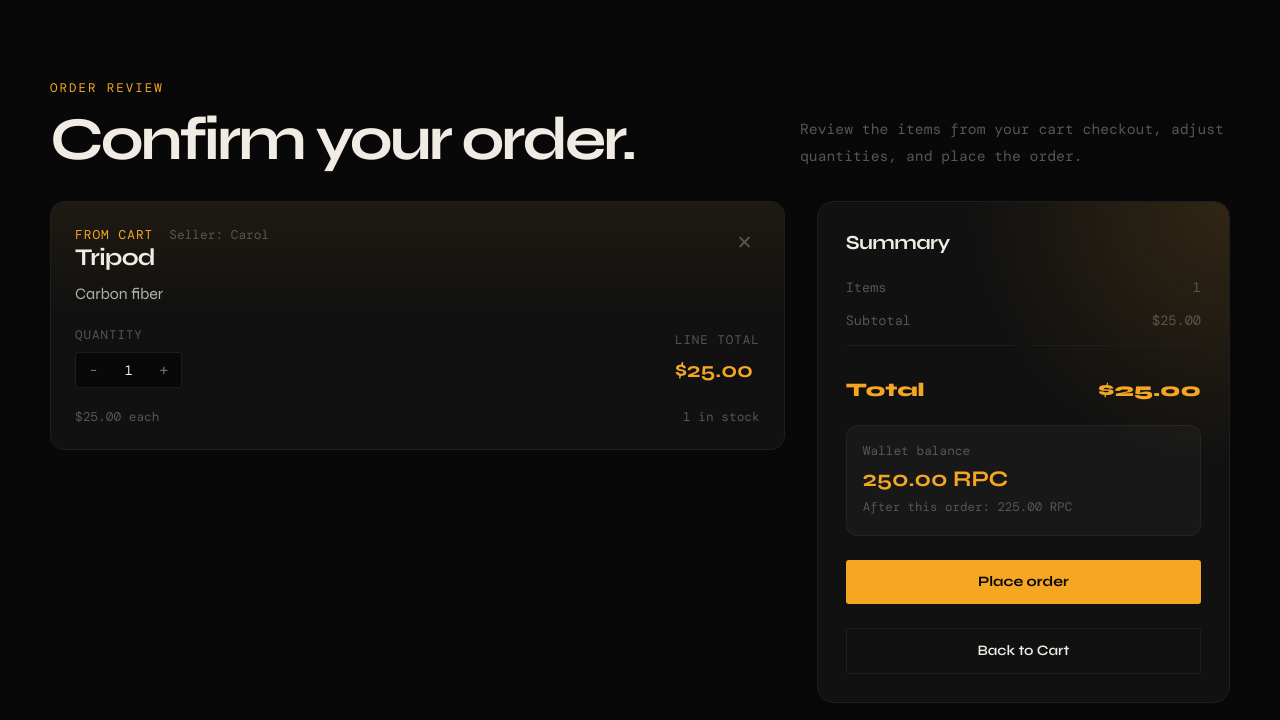
Scenario: OrderPage › removes a cart item from checkout and from the cart backend
This screenshot has width=1280, height=720.
Click the button named "Remove Tripod from order" at (745, 243), box [729, 226, 760, 260]
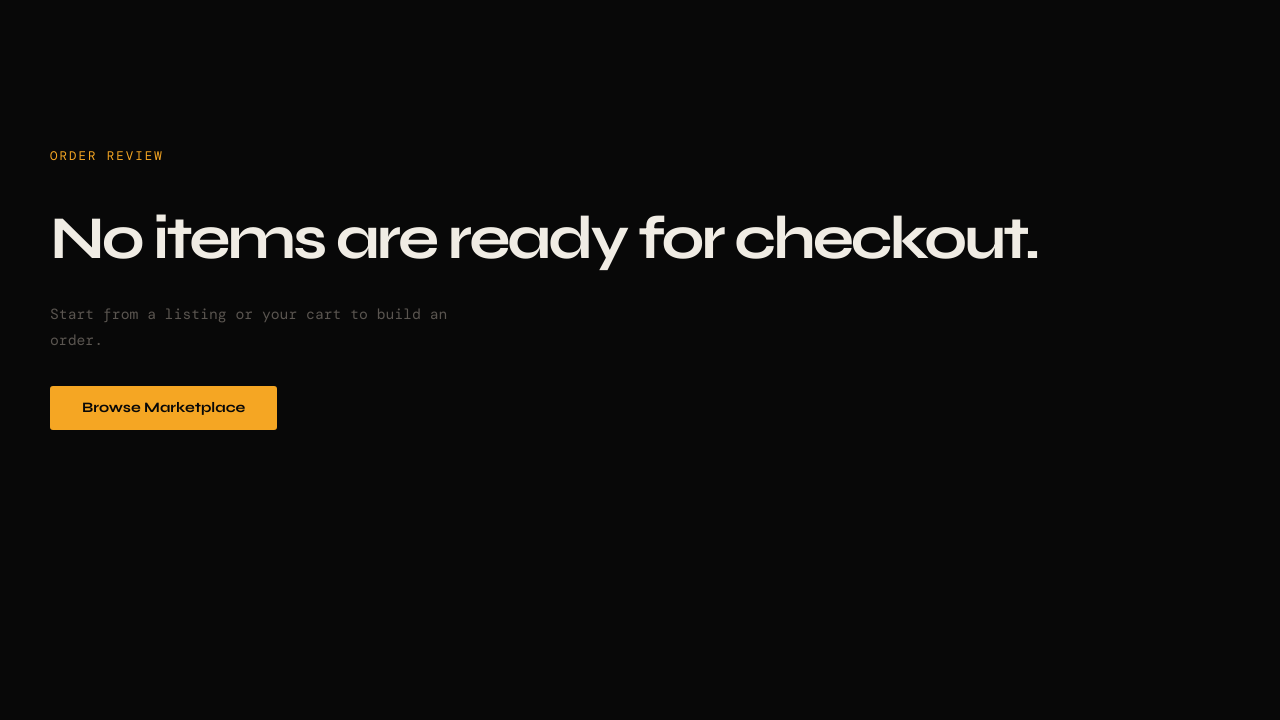
Expected: the heading "No items are ready for checkout." is shown, [50, 209, 1038, 269]
